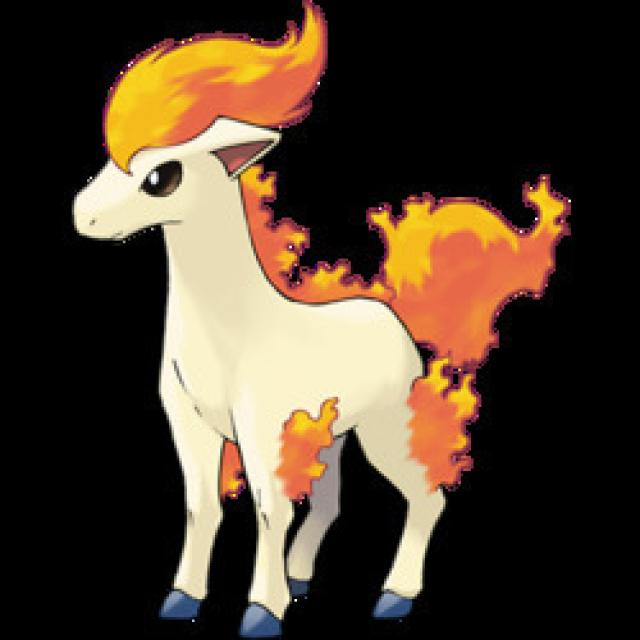Ponyta: (61, 23, 481, 623)
